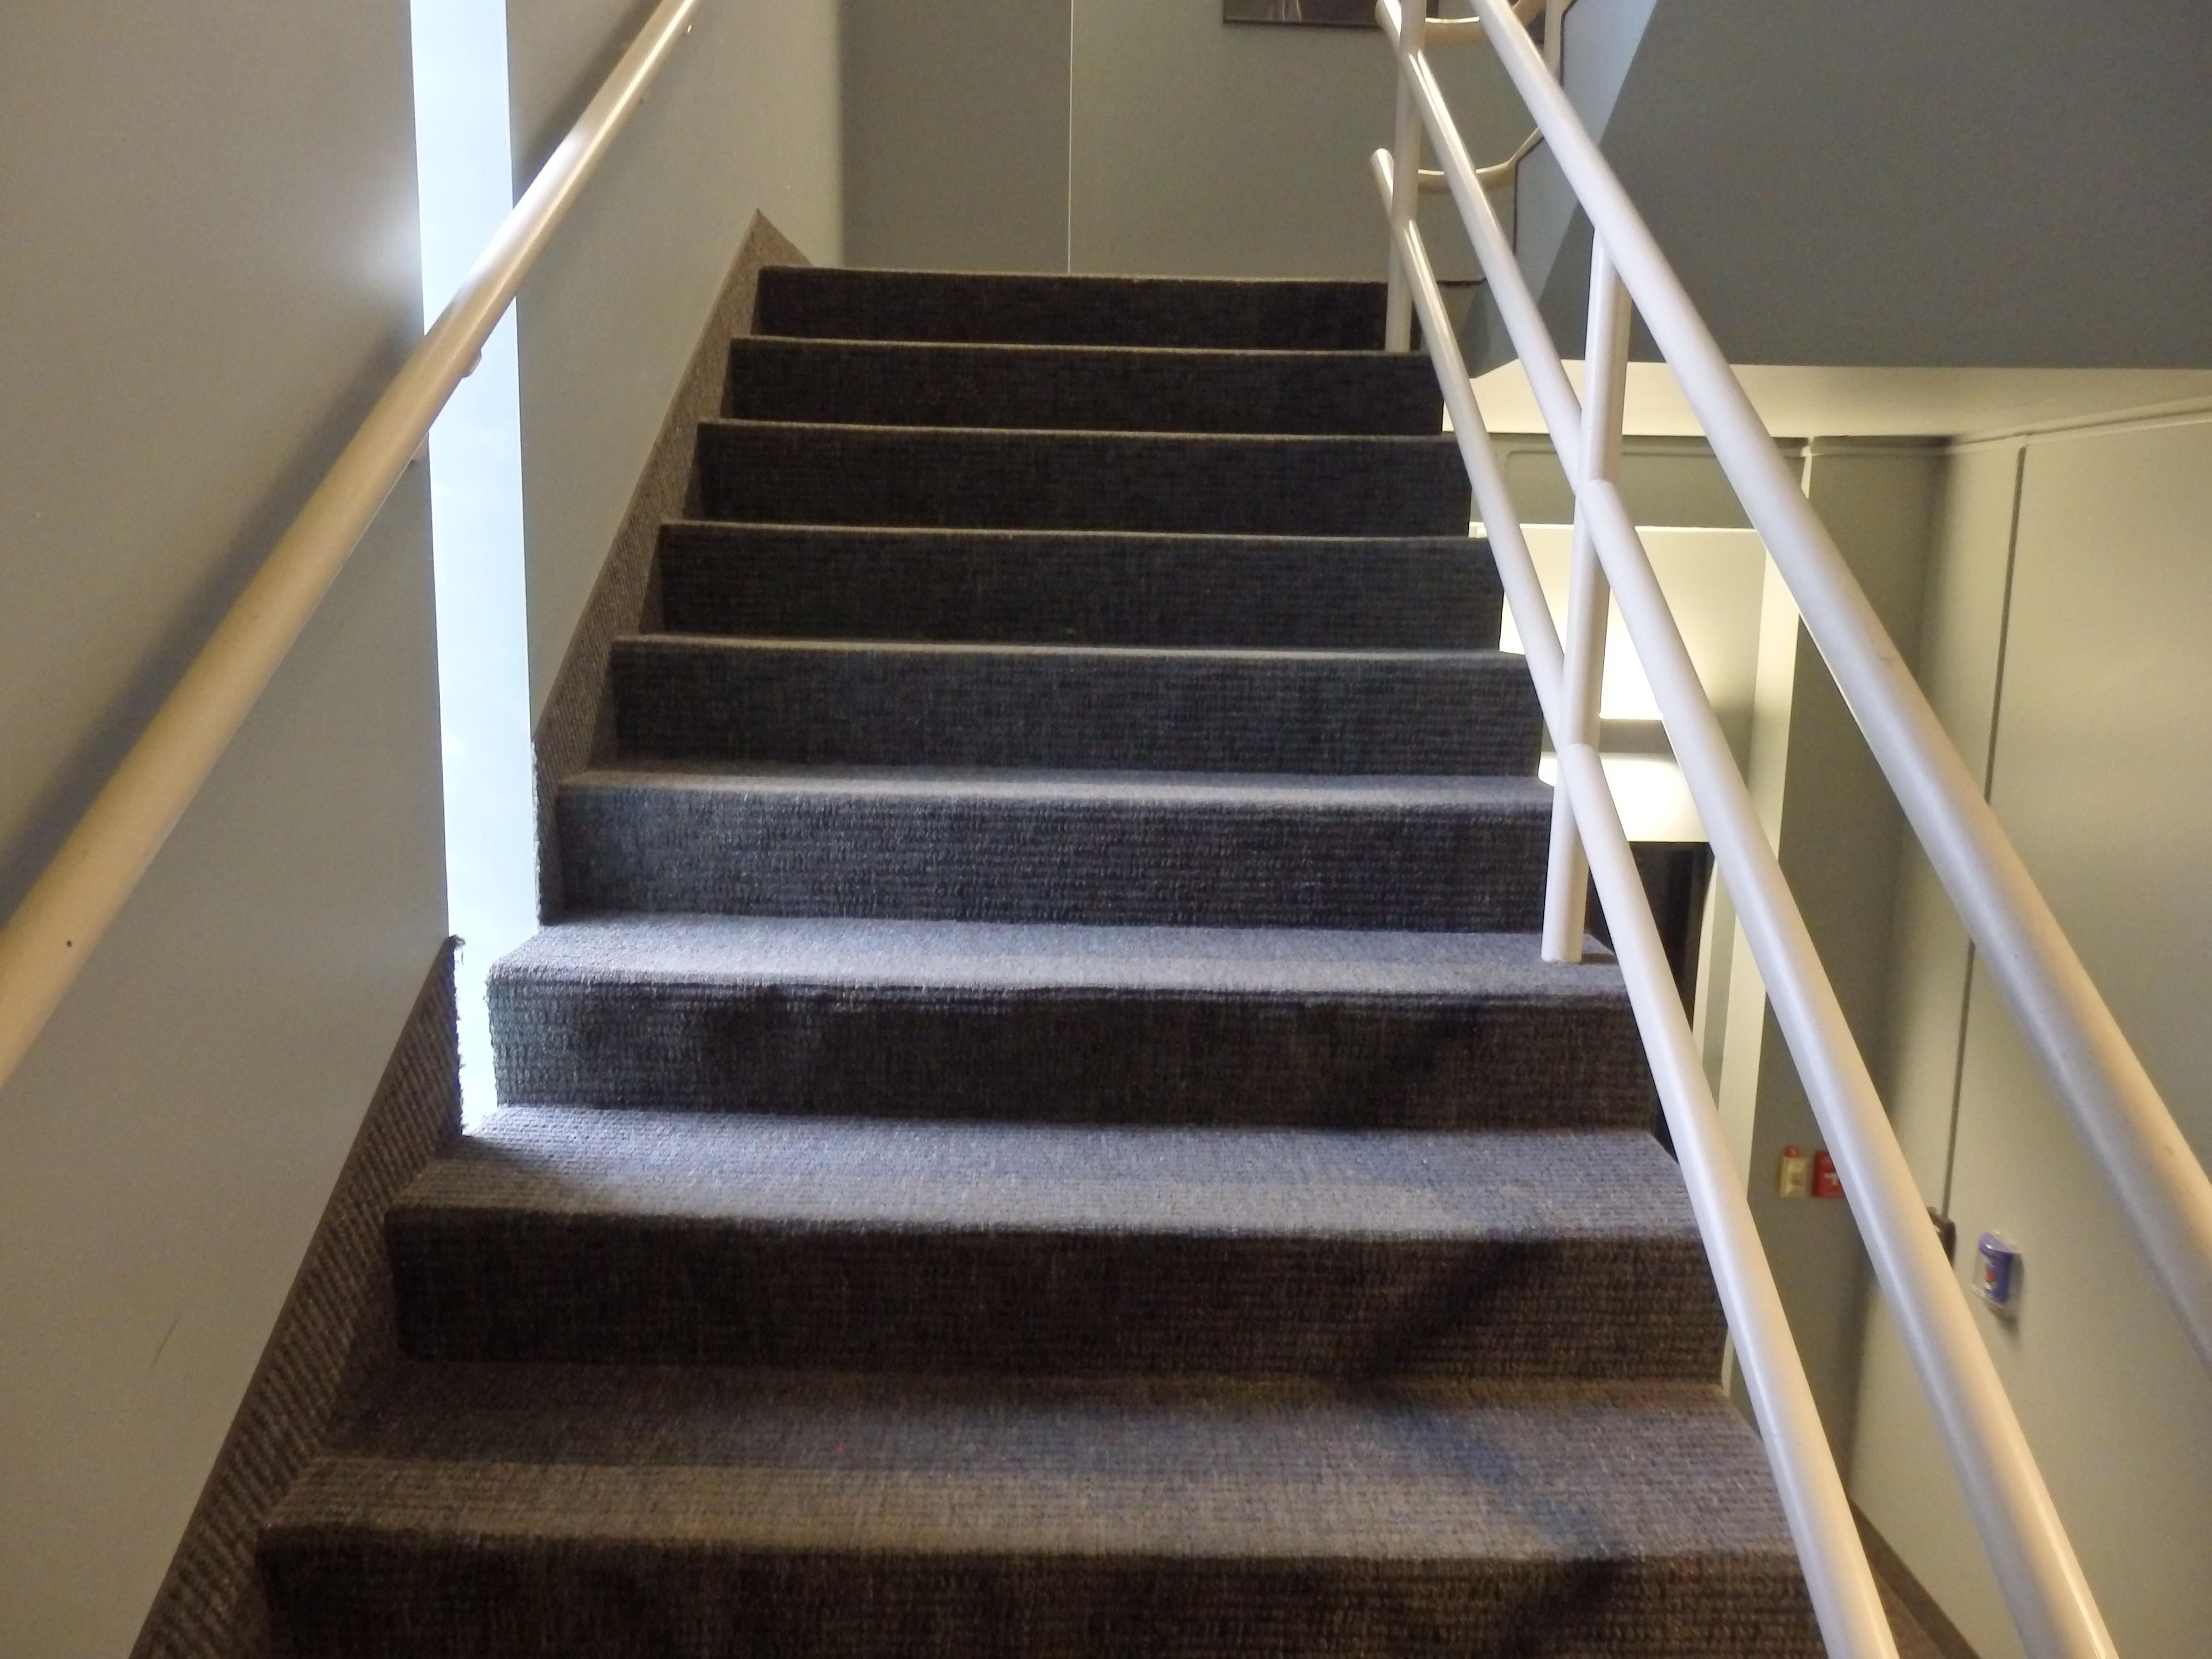stairs_up: (242, 235, 1836, 1610)
